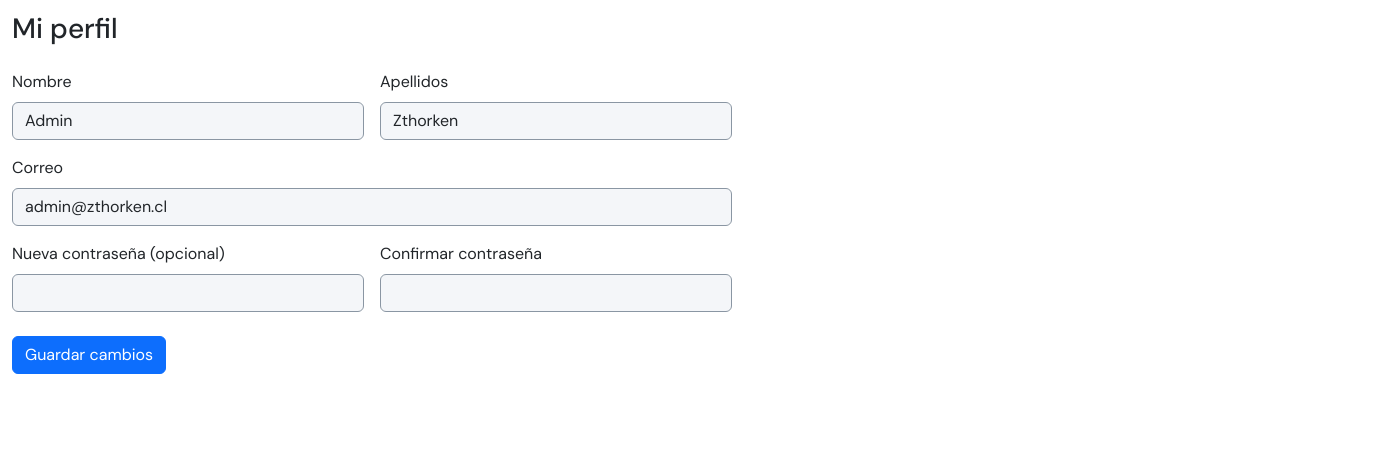
Test case: Perfil › no permite usar el correo de otra cuenta
Replace the text in the field labelled "Correo" with "pedro@correo.cl". click: x=372, y=207
box: x1=12 y1=188 x2=732 y2=226
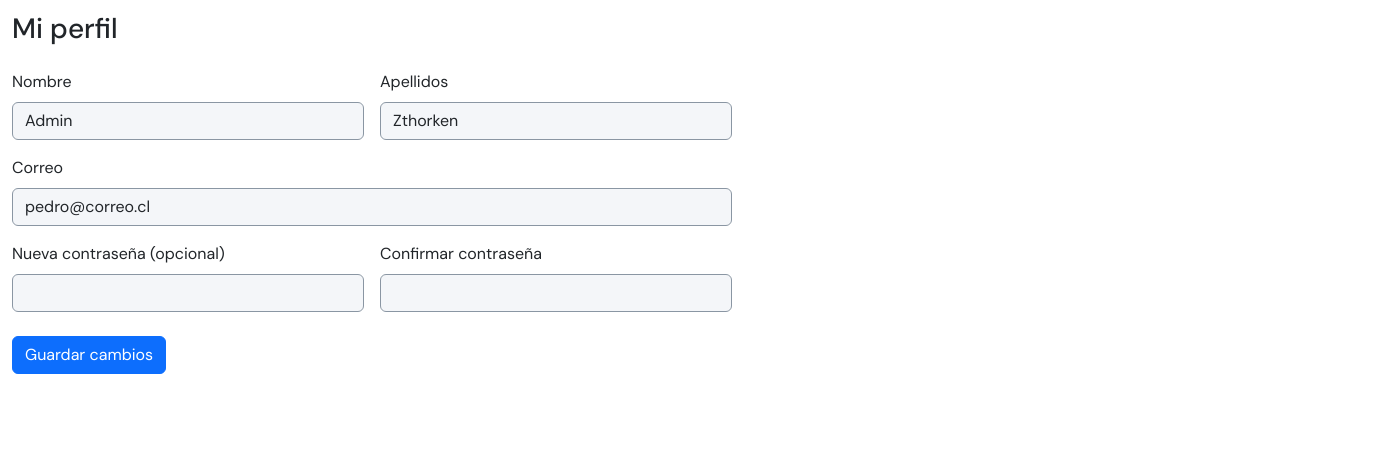
Click the button "Guardar cambios". click: x=89, y=355
box: x1=12 y1=336 x2=166 y2=374
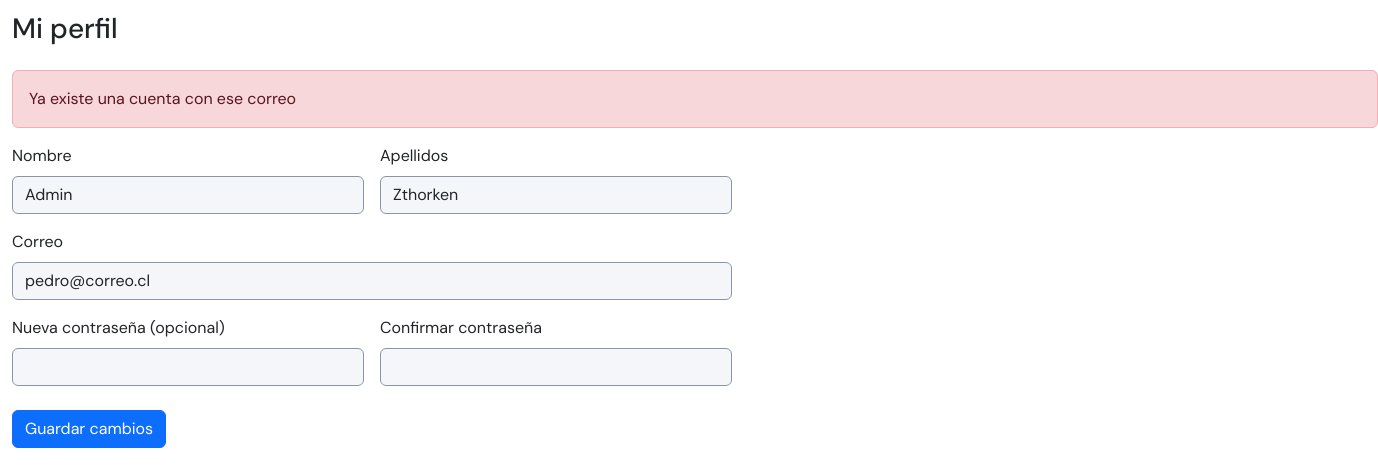
Result: the message reads "Ya existe una cuenta con ese correo" at x1=29 y1=88 x2=296 y2=109
